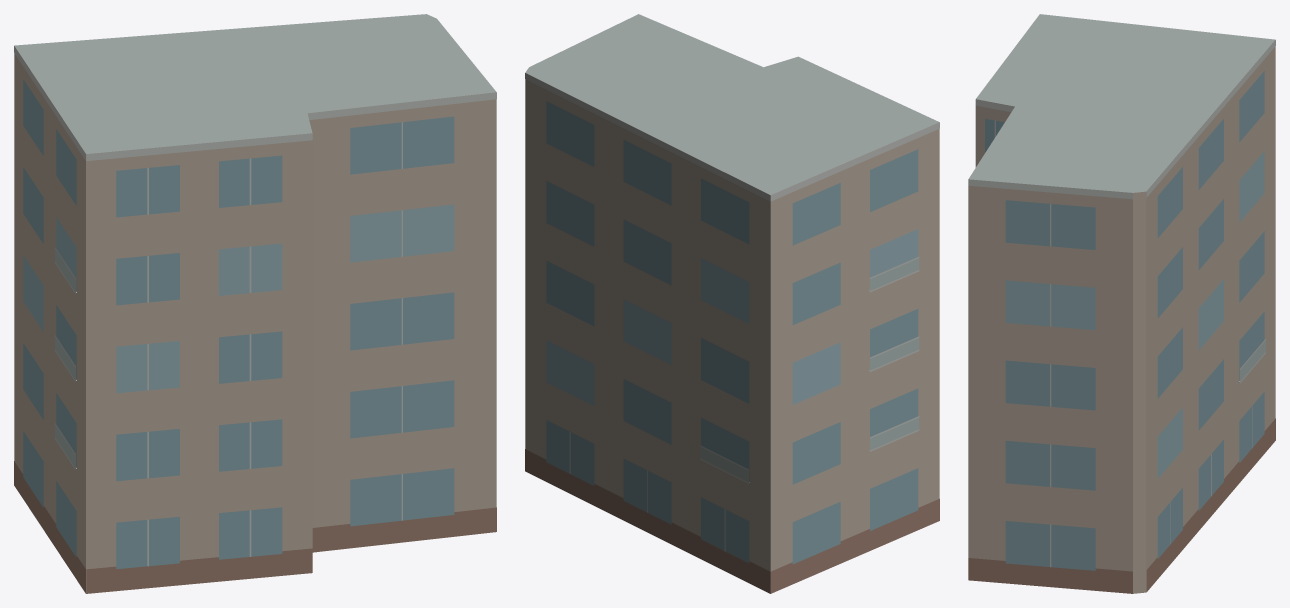
File: survey-upis-32785826.glb
3 views of the same model, side by side, from view 1: azimuth 30°, elevation 25°; view 2: azimuth 150°, elevation 25°; view 3: azimuth 270°, elevation 25° (orthographic). The views are drawn at different scales.
Visible parts, largest first — view 1: survey-upis-32785826.tmp; view 2: survey-upis-32785826.tmp; view 3: survey-upis-32785826.tmp.
Part boxes in pixels (x1,y1,x2,y2): survey-upis-32785826.tmp: (14, 14, 496, 593); survey-upis-32785826.tmp: (525, 14, 939, 593); survey-upis-32785826.tmp: (968, 14, 1275, 593).
Size of the model in its own units: 14.65 by 15.3 by 10.64.
